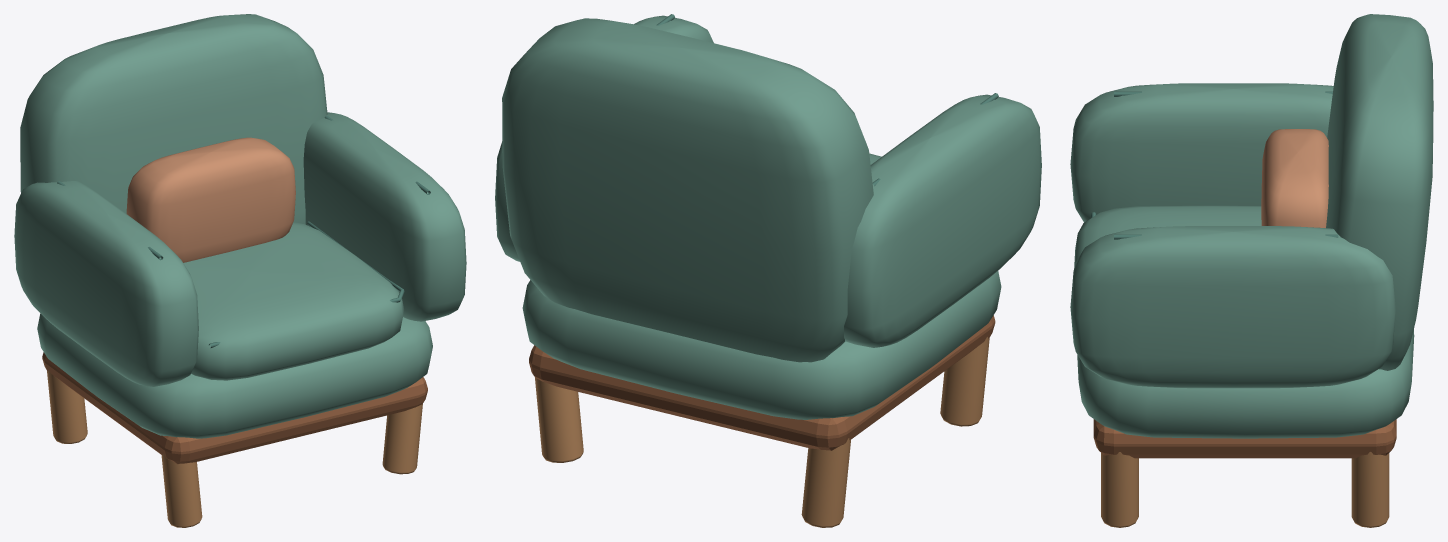
Rendered from seaside-armchair.glb.
3 views of the same model, side by side, from view 1: azimuth 30°, elevation 25°; view 2: azimuth 150°, elevation 25°; view 3: azimuth 270°, elevation 25° (orthographic). The views are drawn at different scales.
Parts seen in each view (by area): view 1: seaside-armchair / Sea glass upholstery, seaside-armchair / Terracotta cushion, seaside-armchair / Oak endgrain, seaside-armchair / Oak, seaside-armchair / Sea glass runner; view 2: seaside-armchair / Sea glass upholstery, seaside-armchair / Oak endgrain, seaside-armchair / Oak; view 3: seaside-armchair / Sea glass upholstery, seaside-armchair / Oak endgrain, seaside-armchair / Terracotta cushion, seaside-armchair / Oak.
Boxes of the visible parts, x1,y1,x2,y2 form: seaside-armchair / Sea glass upholstery: (14,14,466,438); seaside-armchair / Terracotta cushion: (126,137,295,262); seaside-armchair / Oak endgrain: (42,352,427,464); seaside-armchair / Oak: (47,370,422,527); seaside-armchair / Sea glass runner: (57,115,430,348); seaside-armchair / Sea glass upholstery: (495,15,1041,419); seaside-armchair / Oak endgrain: (529,315,995,450); seaside-armchair / Oak: (535,337,989,527); seaside-armchair / Sea glass upholstery: (1070,14,1433,438); seaside-armchair / Oak endgrain: (1093,419,1396,458); seaside-armchair / Terracotta cushion: (1261,129,1328,227); seaside-armchair / Oak: (1101,452,1389,527).
Size of the model in its own units: 1.41 by 1.54 by 1.25.
